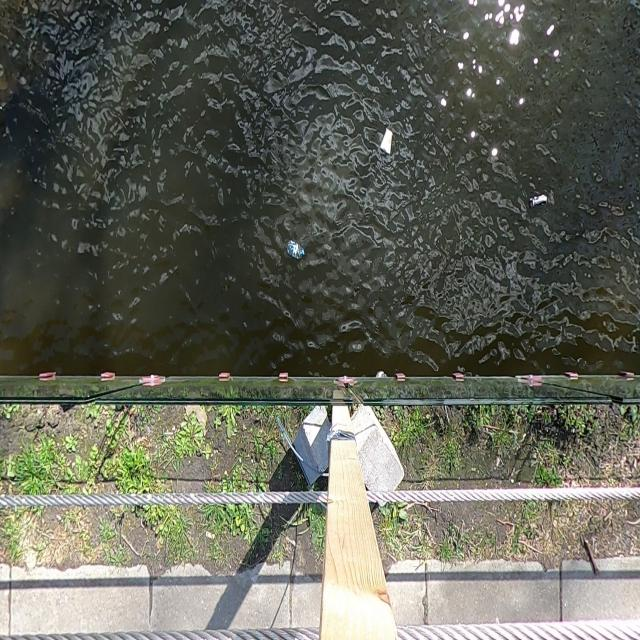Bouteille plastique: (282, 239, 310, 263)
Non plastique: (528, 192, 551, 215), (379, 127, 395, 160)
